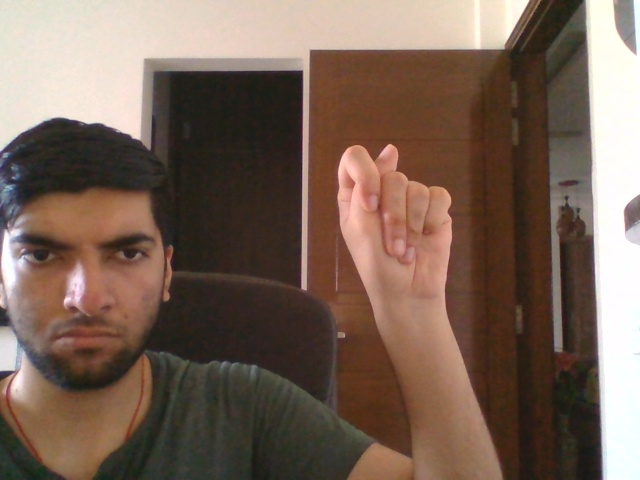LetterT: (334, 142, 455, 305)
